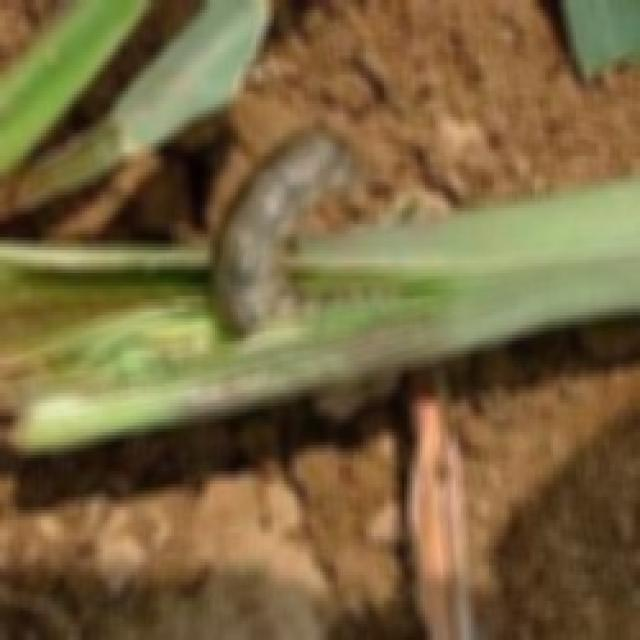black cutworm: (211, 115, 364, 342)
